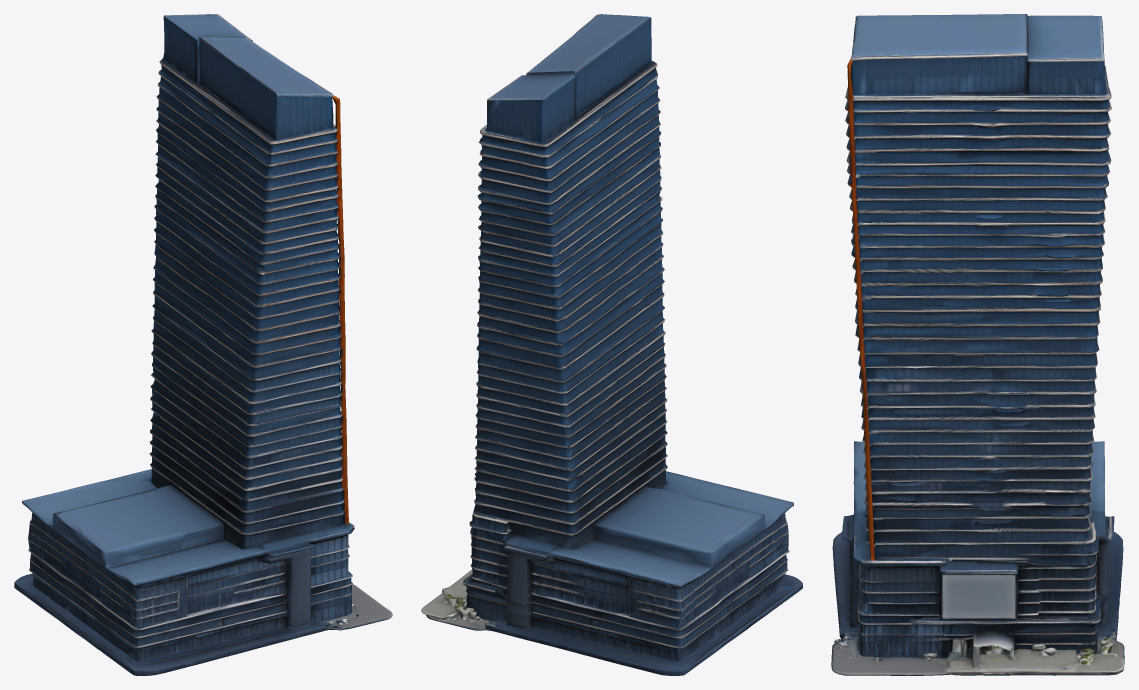
The model's file is Flashpoint_Higgsfield_Raw_candidate2.glb.
3 views of the same model, side by side, from view 1: azimuth 30°, elevation 25°; view 2: azimuth 150°, elevation 25°; view 3: azimuth 270°, elevation 25° (orthographic). The views are drawn at different scales.
Parts seen in each view (by area): view 1: tripo_node_70205820-796c-4c34-a4c5-48daebe36621; view 2: tripo_node_70205820-796c-4c34-a4c5-48daebe36621; view 3: tripo_node_70205820-796c-4c34-a4c5-48daebe36621.
Part boxes in pixels (bbox=[...]): tripo_node_70205820-796c-4c34-a4c5-48daebe36621: bbox=[14, 14, 392, 675]; tripo_node_70205820-796c-4c34-a4c5-48daebe36621: bbox=[421, 14, 802, 675]; tripo_node_70205820-796c-4c34-a4c5-48daebe36621: bbox=[831, 14, 1124, 675].
Size of the model in its own units: 0.4954 by 0.9802 by 0.4319.
Materials: 1 (1 with a texture image).
